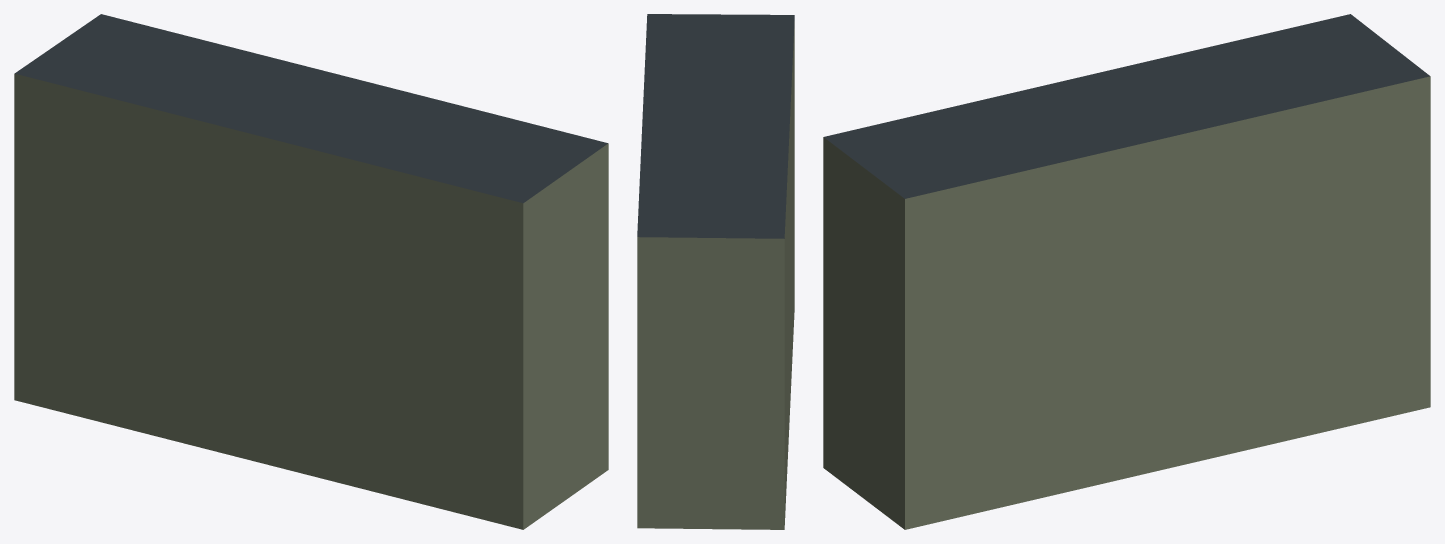
The model's file is nyc-1022574-0.glb.
The picture shows the model from 3 angles, left to right: view 1: azimuth 30°, elevation 25°; view 2: azimuth 150°, elevation 25°; view 3: azimuth 270°, elevation 25°; orthographic projection. The views are drawn at different scales.
Visible parts, largest first — view 1: nyc-1022574-0; view 2: nyc-1022574-0; view 3: nyc-1022574-0.
Part boxes in pixels (left/top/right/bottom): nyc-1022574-0: left=14, top=14, right=608, bottom=529; nyc-1022574-0: left=637, top=14, right=794, bottom=529; nyc-1022574-0: left=823, top=14, right=1430, bottom=529.
Size of the model in its own units: 20.72 by 17.29 by 28.74.
